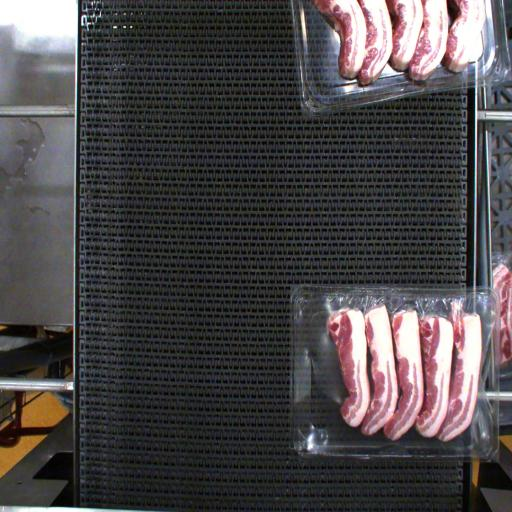unsealed: (298, 288, 499, 438)
